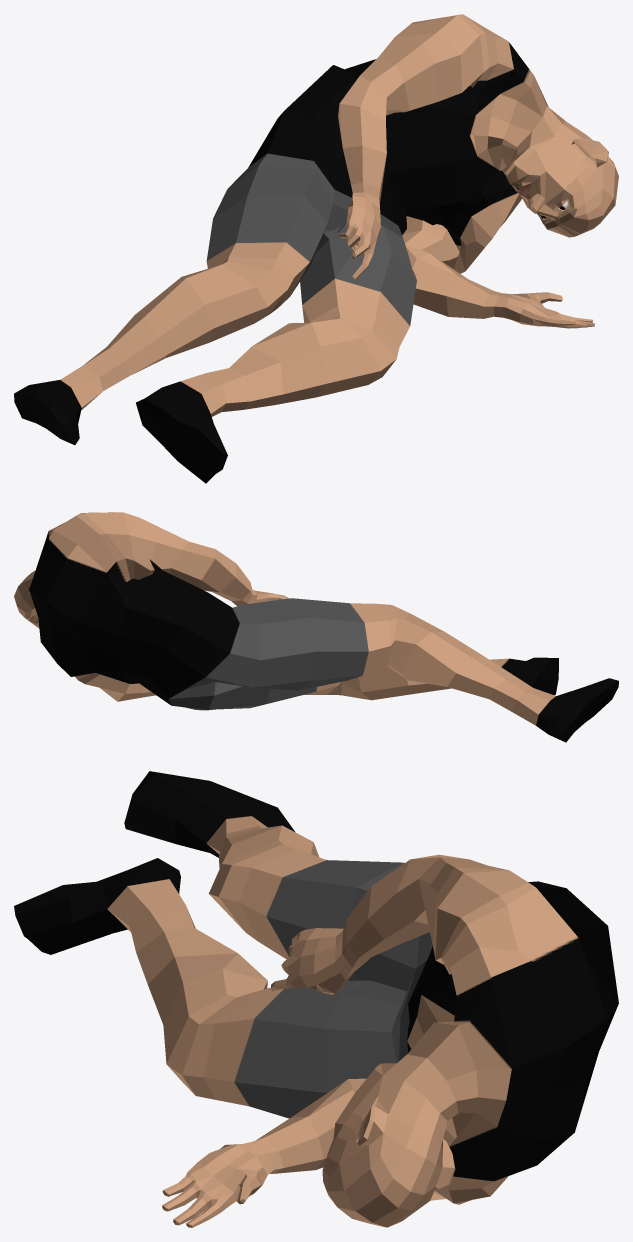
The model's file is PlayerDead(84).obj.
The picture shows the model from 3 angles, top to bottom: view 1: azimuth 30°, elevation 25°; view 2: azimuth 150°, elevation 25°; view 3: azimuth 270°, elevation 25°; orthographic projection. The views are drawn at different scales.
Visible parts, largest first — view 1: Plane002; view 2: Plane002; view 3: Plane002.
Part boxes in pixels (x1,y1,x2,y2): Plane002: [14, 14, 618, 483]; Plane002: [14, 512, 618, 742]; Plane002: [14, 771, 618, 1227].
Size of the model in its own units: 1570 by 560 by 912.
